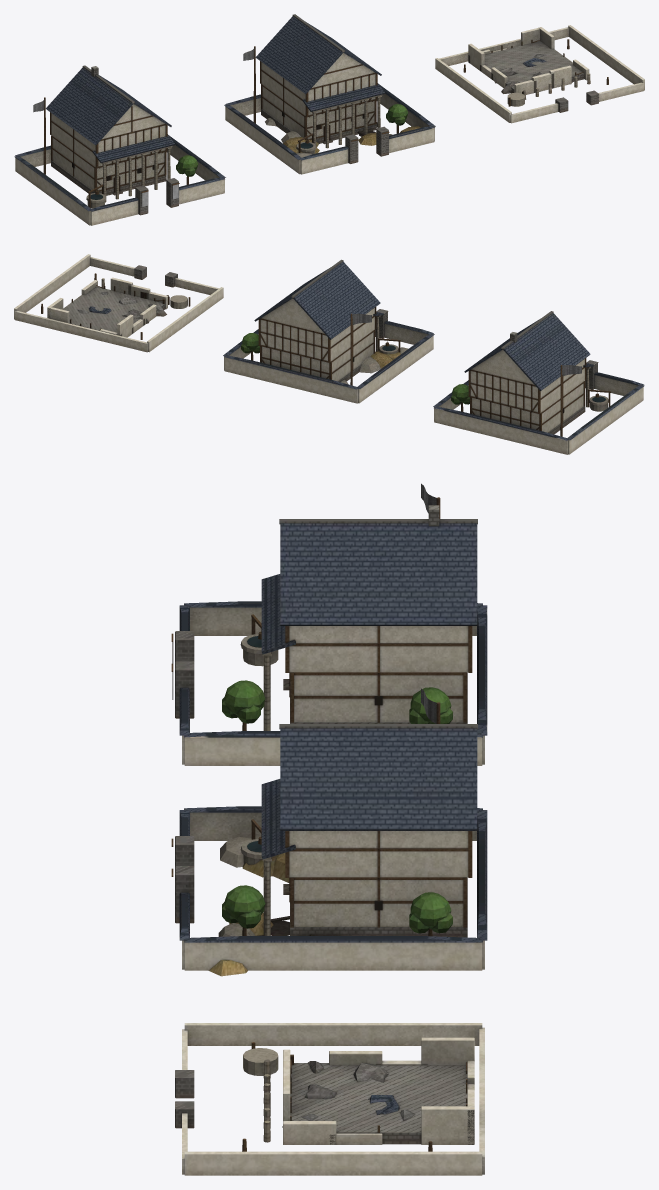
File: civic-kingdoms.glb
The picture shows the model from 3 angles, top to bottom: view 1: azimuth 30°, elevation 25°; view 2: azimuth 150°, elevation 25°; view 3: azimuth 270°, elevation 25°; orthographic projection. The views are drawn at different scales.
Visible parts, largest first — view 1: LOD0.001, LOD0, LOD0.002; view 2: LOD0.001, LOD0, LOD0.002; view 3: LOD0.001, LOD0, LOD0.002.
Part boxes in pixels (x1,y1,x2,y2): LOD0.001: (224, 14, 435, 174); LOD0: (14, 65, 225, 225); LOD0.002: (435, 25, 644, 123); LOD0.001: (223, 259, 434, 403); LOD0: (433, 311, 644, 454); LOD0.002: (14, 254, 223, 352); LOD0.001: (171, 688, 487, 976); LOD0: (171, 483, 487, 765); LOD0.002: (175, 1023, 484, 1175).
Size of what is drawn, in the model's own units: 7.95 by 1.31 by 1.95.
2 materials, 2 textured.
